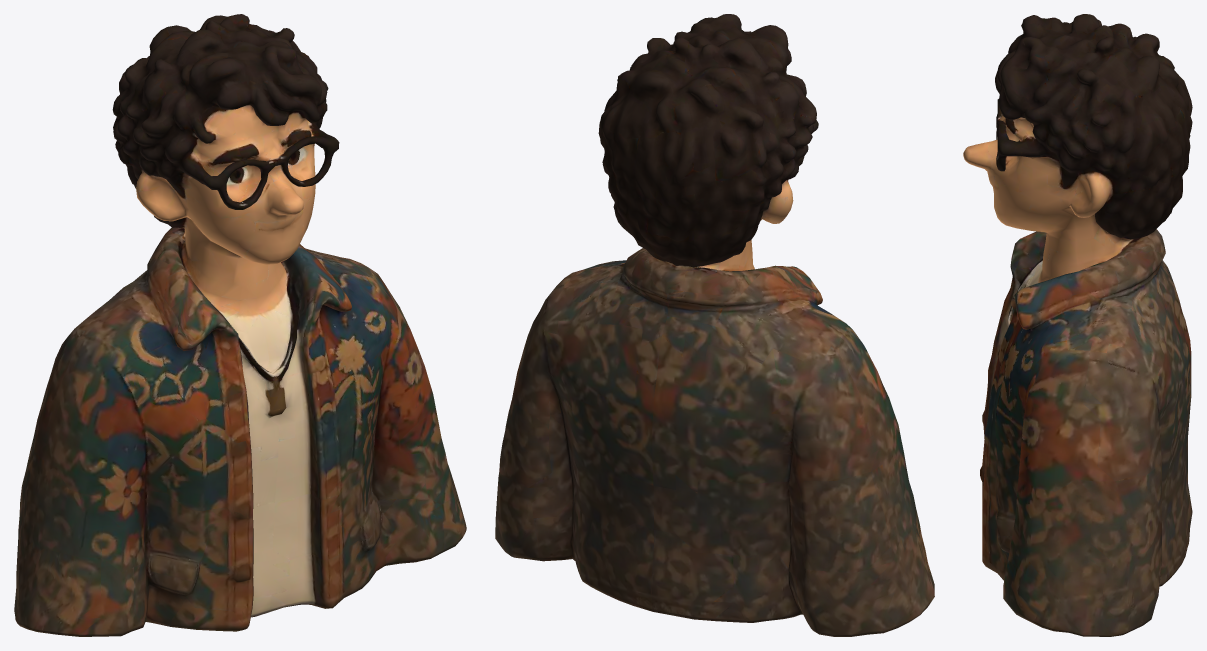
3 views of the same model, side by side, from view 1: azimuth 30°, elevation 25°; view 2: azimuth 150°, elevation 25°; view 3: azimuth 270°, elevation 25° (orthographic). The views are drawn at different scales.
Visible parts, largest first — view 1: Mesh_0; view 2: Mesh_0; view 3: Mesh_0.
Boxes of the visible parts, <box> form: Mesh_0: <box>14,14,466,636</box>; Mesh_0: <box>495,14,934,636</box>; Mesh_0: <box>963,14,1192,636</box>.
Size of the model in its own units: 53422 by 65534 by 26242.
Materials: 11 (11 with a texture image).
